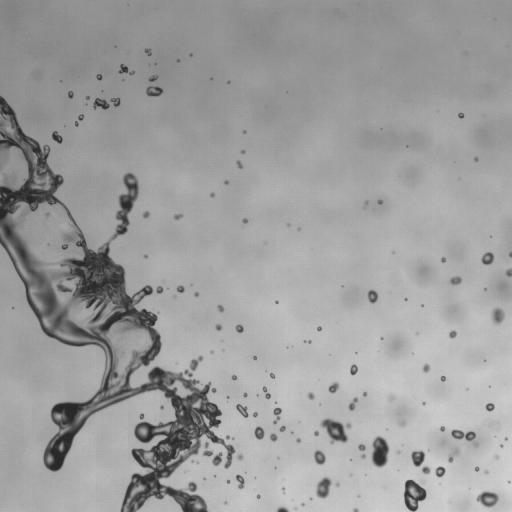droplet: (320, 418, 351, 444), (403, 479, 426, 511), (371, 436, 389, 467), (476, 491, 498, 507), (316, 477, 331, 498), (491, 307, 504, 324), (93, 98, 109, 109), (481, 252, 494, 265), (314, 450, 325, 465), (146, 86, 162, 96), (236, 404, 248, 417), (367, 289, 378, 303), (119, 64, 134, 74), (254, 426, 264, 439), (328, 382, 339, 393), (52, 131, 62, 143), (236, 474, 244, 489), (435, 466, 445, 477), (450, 276, 461, 285), (111, 98, 120, 106), (422, 363, 430, 372), (485, 403, 494, 411), (350, 364, 357, 374), (235, 324, 243, 332), (449, 330, 456, 338), (270, 433, 277, 441), (144, 48, 151, 55), (142, 211, 149, 218), (177, 285, 184, 292), (307, 392, 314, 399), (149, 75, 157, 81), (236, 160, 242, 168), (388, 393, 394, 401), (217, 305, 223, 312), (215, 324, 222, 330), (237, 453, 243, 460), (174, 214, 182, 219), (506, 268, 511, 276), (96, 74, 102, 80), (68, 91, 73, 98), (399, 421, 405, 426), (279, 426, 285, 431), (458, 113, 463, 118), (45, 212, 50, 217), (242, 218, 247, 223), (441, 257, 446, 262), (231, 375, 236, 380), (440, 426, 445, 431), (314, 430, 318, 436), (210, 192, 214, 197), (377, 200, 382, 204), (194, 292, 198, 297), (317, 326, 321, 331), (270, 373, 274, 378), (441, 376, 445, 381), (243, 392, 247, 397), (253, 412, 257, 417), (296, 438, 301, 442), (304, 340, 310, 343), (353, 508, 359, 511), (474, 157, 478, 161), (224, 180, 228, 184), (363, 392, 367, 396), (160, 405, 164, 409), (494, 455, 498, 459), (484, 470, 488, 474), (192, 460, 197, 463), (282, 487, 285, 492), (210, 350, 214, 353), (241, 150, 244, 153), (144, 255, 147, 258), (253, 356, 256, 359), (475, 467, 478, 470), (227, 480, 230, 483), (336, 483, 339, 486), (257, 495, 260, 498), (177, 59, 179, 62), (86, 96, 88, 99), (243, 130, 245, 133), (365, 201, 368, 203), (404, 298, 407, 300), (422, 402, 425, 404), (301, 503, 304, 505), (13, 180, 15, 182), (275, 300, 277, 302), (489, 423, 491, 425), (505, 438, 507, 440), (475, 444, 477, 446), (500, 445, 502, 447), (397, 451, 399, 453)
ligament: (0, 96, 231, 511), (411, 450, 430, 474), (451, 429, 475, 441), (448, 448, 459, 462), (273, 407, 281, 423), (348, 397, 357, 410), (358, 444, 365, 458), (75, 114, 83, 126), (262, 386, 270, 398), (276, 506, 289, 511), (509, 251, 511, 257)
